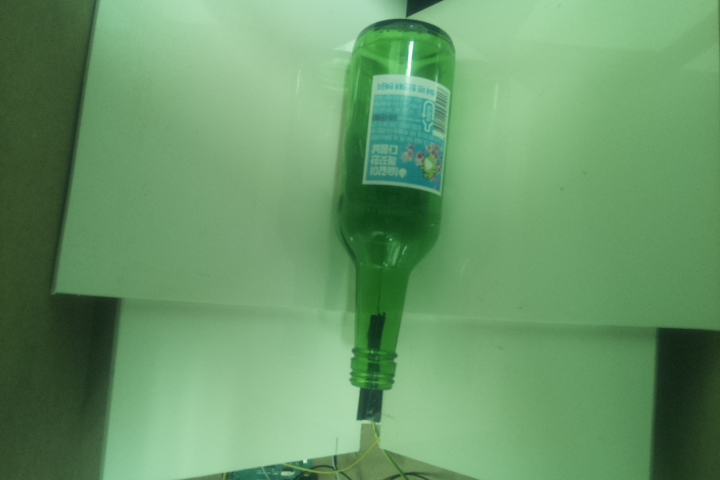soju: (331, 16, 458, 391)
